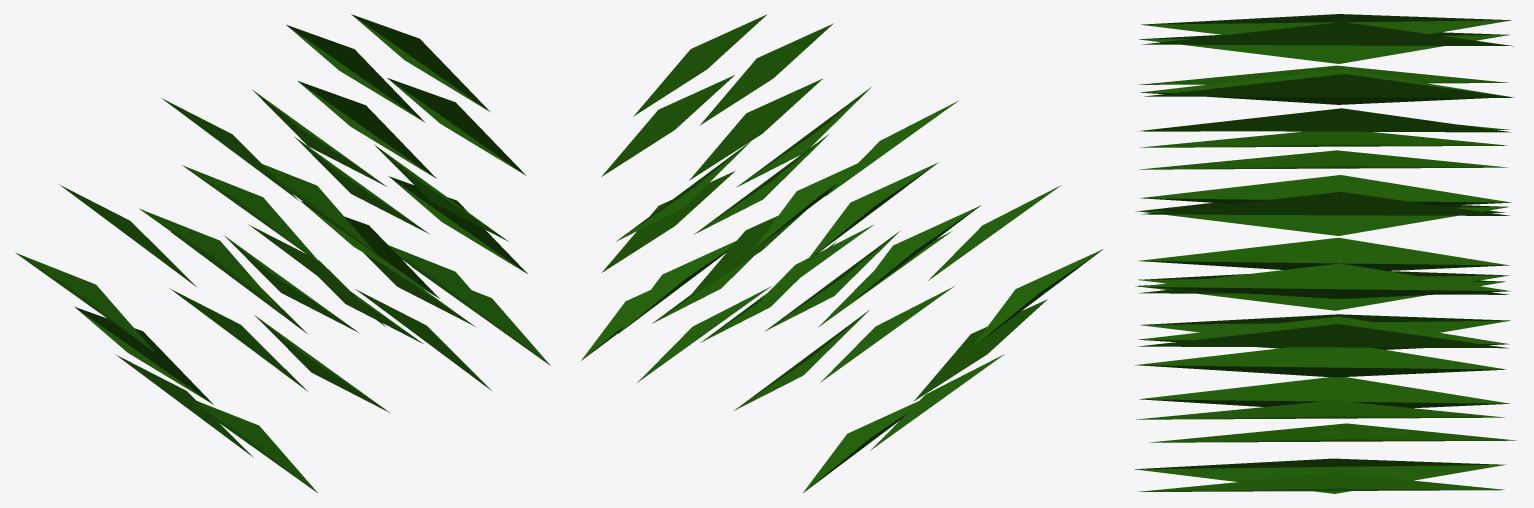
File: herbe.fbx
3 renders of one model, left to right at view 1: azimuth 30°, elevation 25°; view 2: azimuth 150°, elevation 25°; view 3: azimuth 270°, elevation 25°, orthographic. The views are drawn at different scales.
Visible parts, largest first — view 1: rock grand.028; view 2: rock grand.028; view 3: rock grand.028.
Boxes of the visible parts, x1,y1,x2,y2 form: rock grand.028: (16, 14, 550, 492); rock grand.028: (580, 14, 1103, 492); rock grand.028: (1135, 14, 1516, 493).
Bounding box in the file's own units: 87.81 × 73.31 × 52.18.
